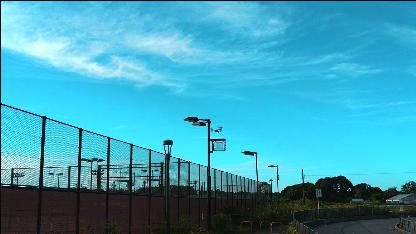Tornado: (210, 126, 224, 132)
